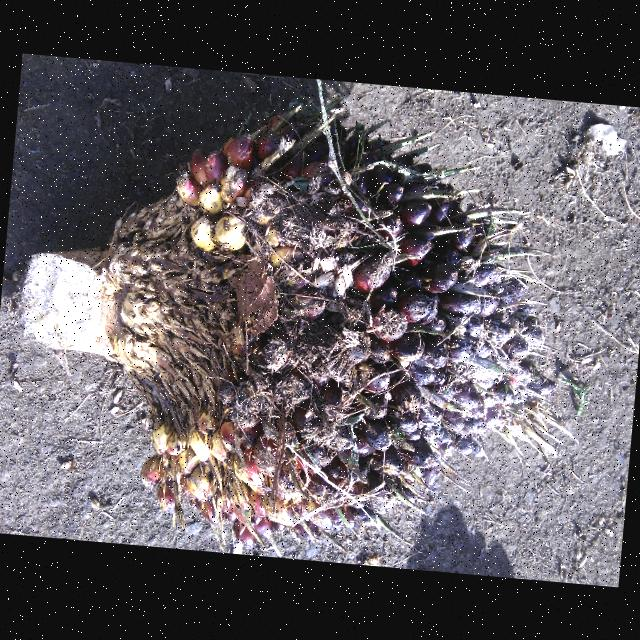Unripe: (144, 106, 538, 533)
